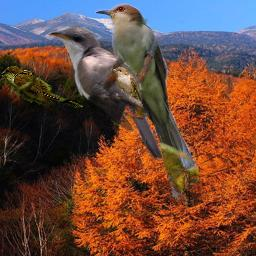Cuckoo: (95, 3, 199, 200), (46, 23, 163, 163), (0, 65, 83, 108), (110, 66, 145, 116)
